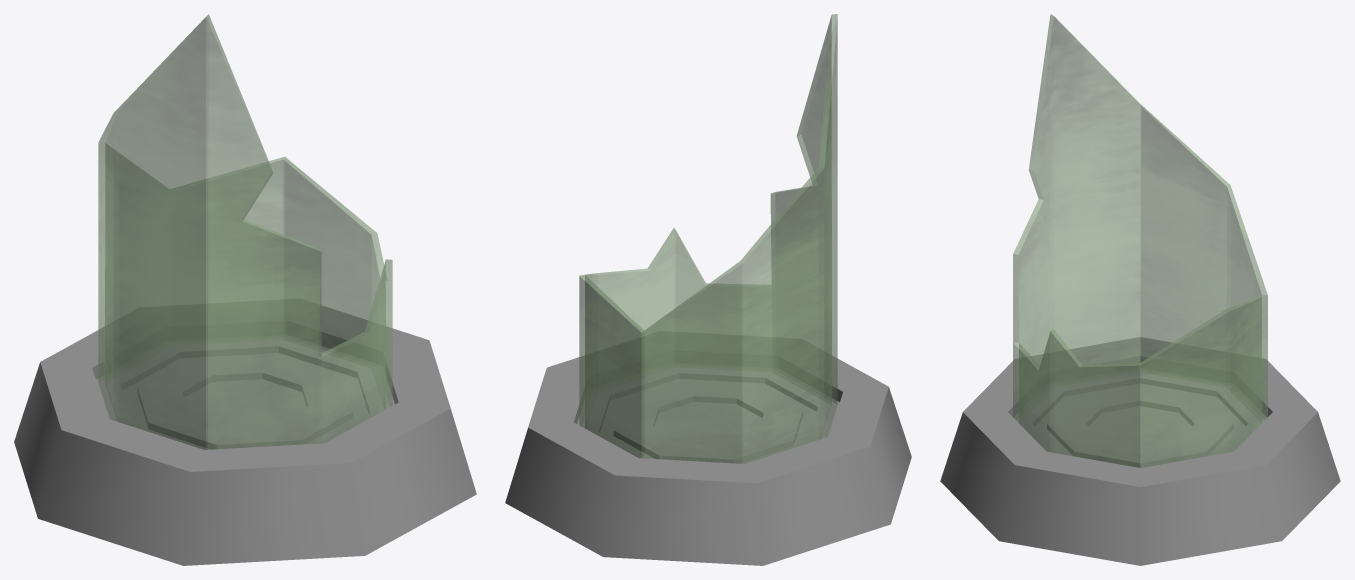
File: Plant_obj2.fbx
3 renders of one model, left to right at view 1: azimuth 30°, elevation 25°; view 2: azimuth 150°, elevation 25°; view 3: azimuth 270°, elevation 25°, orthographic. The views are drawn at different scales.
Parts seen in each view (by area): view 1: Plant_Obj2; view 2: Plant_Obj2; view 3: Plant_Obj2.
Part boxes in pixels (box(x1,y1,x2,y2)): Plant_Obj2: box(14, 14, 476, 565); Plant_Obj2: box(505, 14, 911, 565); Plant_Obj2: box(940, 14, 1340, 565).
Size of the model in its own units: 77.87 by 92.09 by 77.87.
2 materials, 1 textured.
